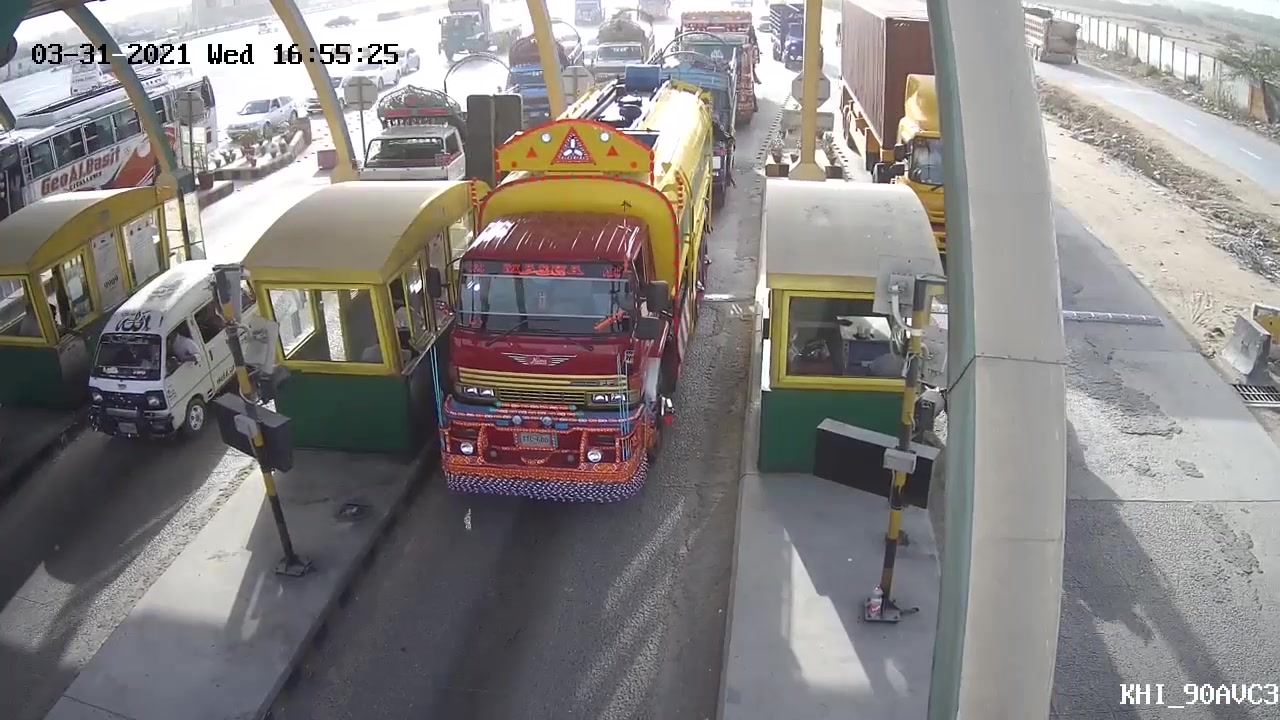F6: (431, 86, 714, 505)
